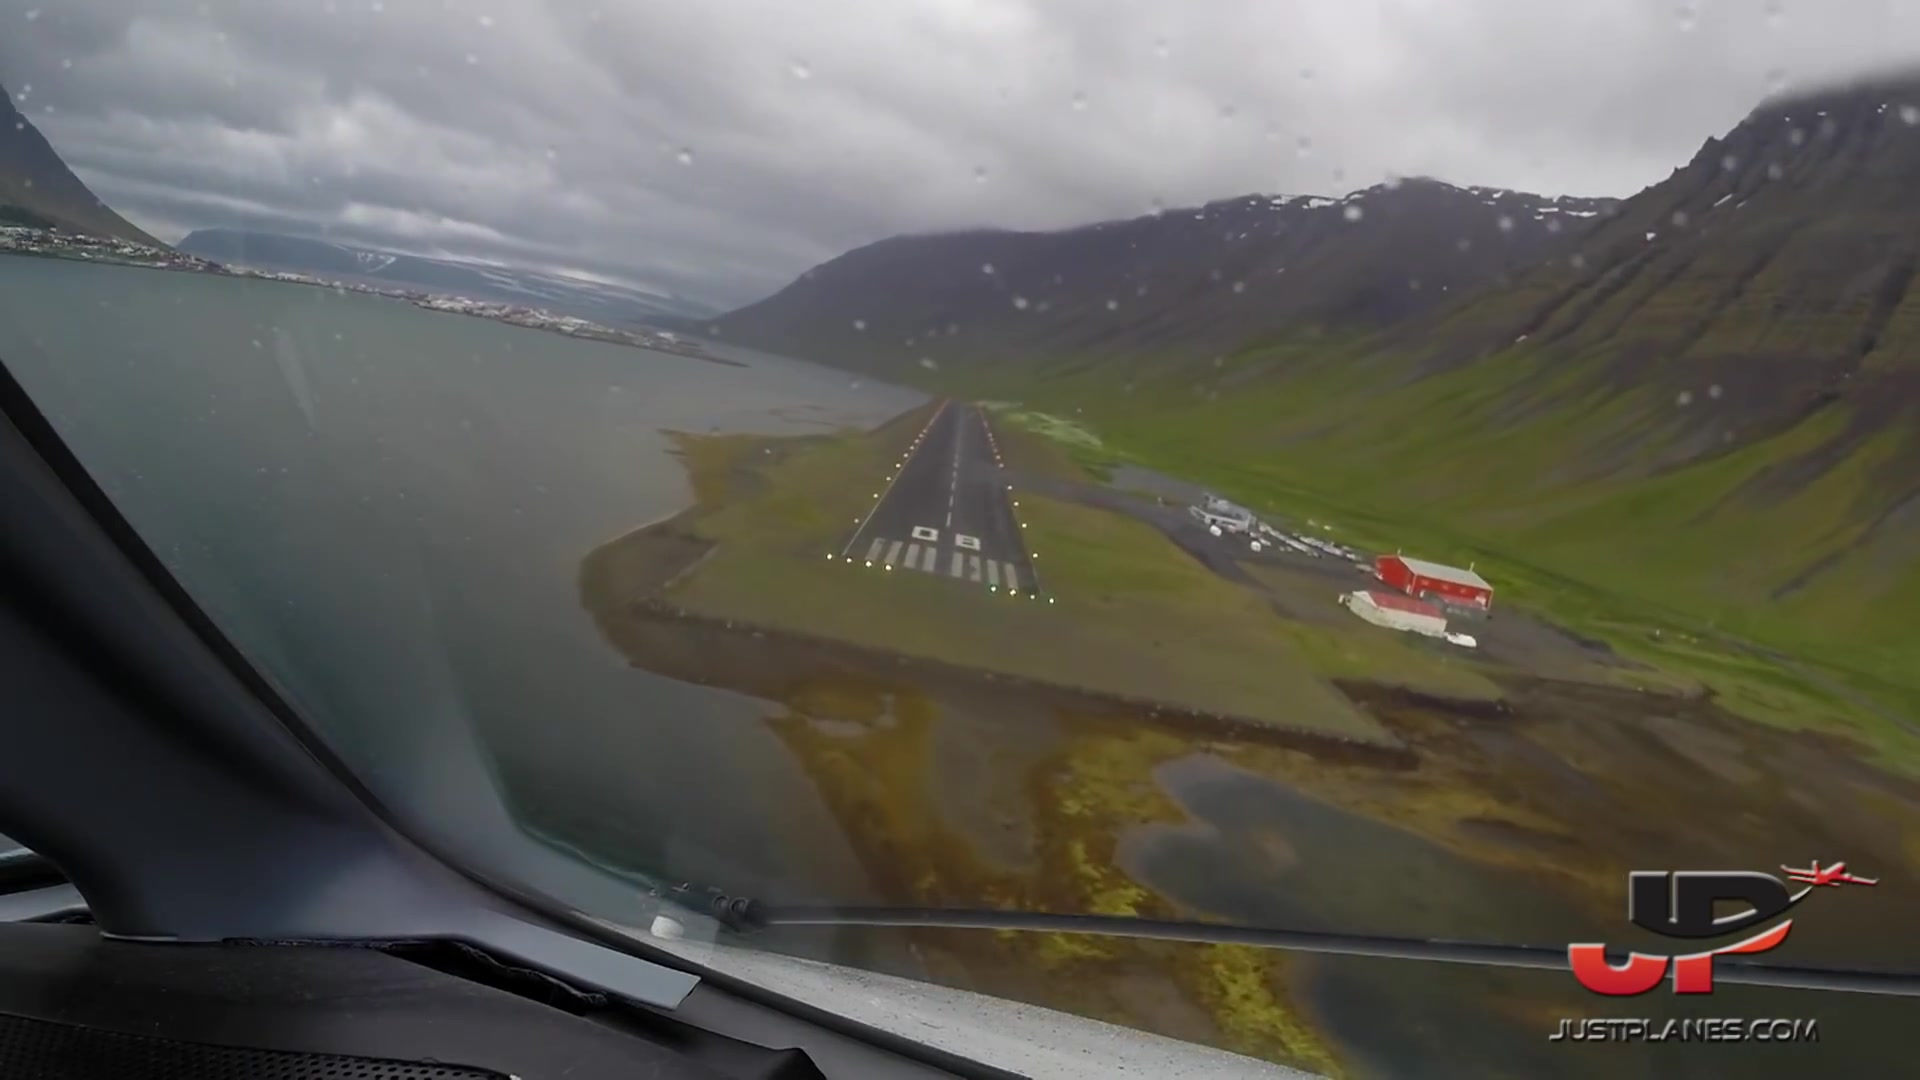entrance: (865, 538, 1022, 593)
runway: (849, 400, 1051, 604)
